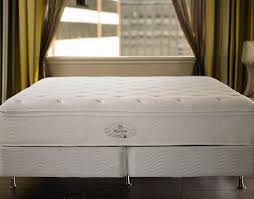bed-matress: (2, 75, 254, 146)
